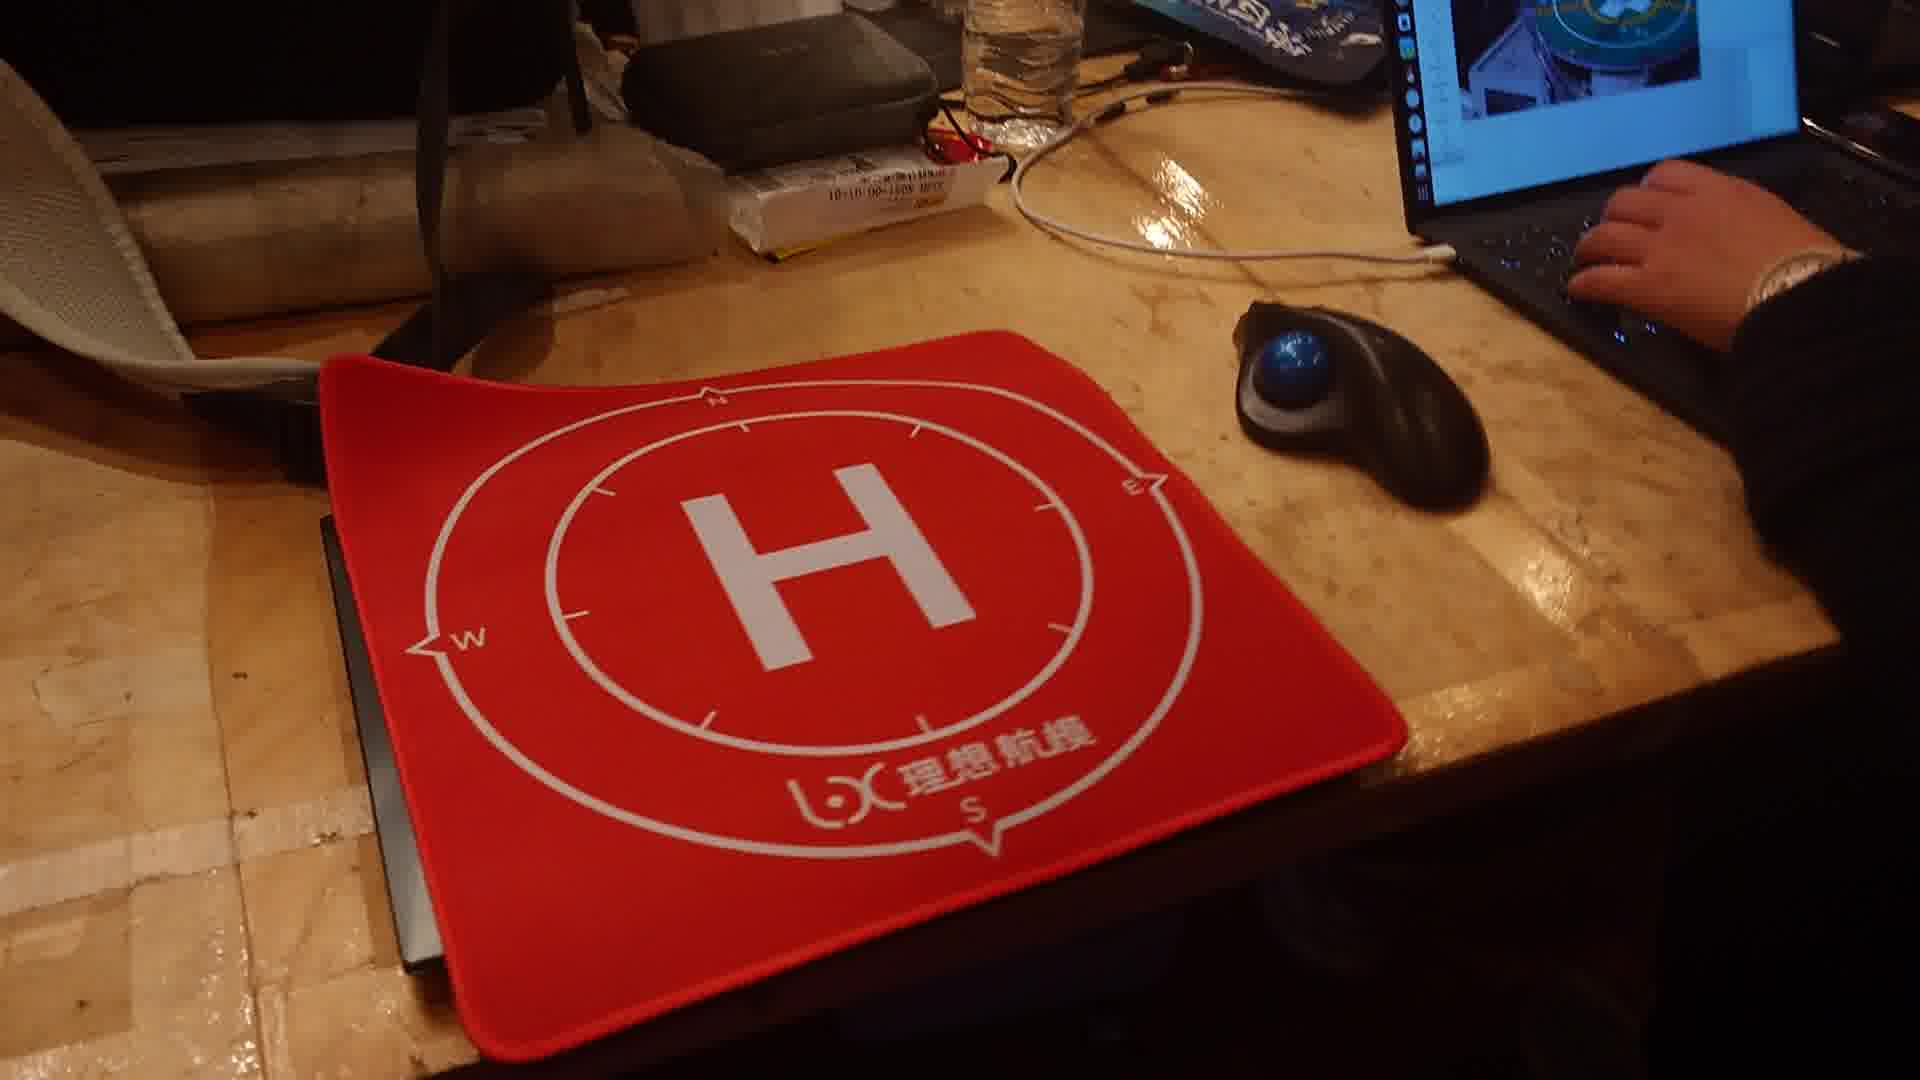H: (676, 462, 980, 674)
